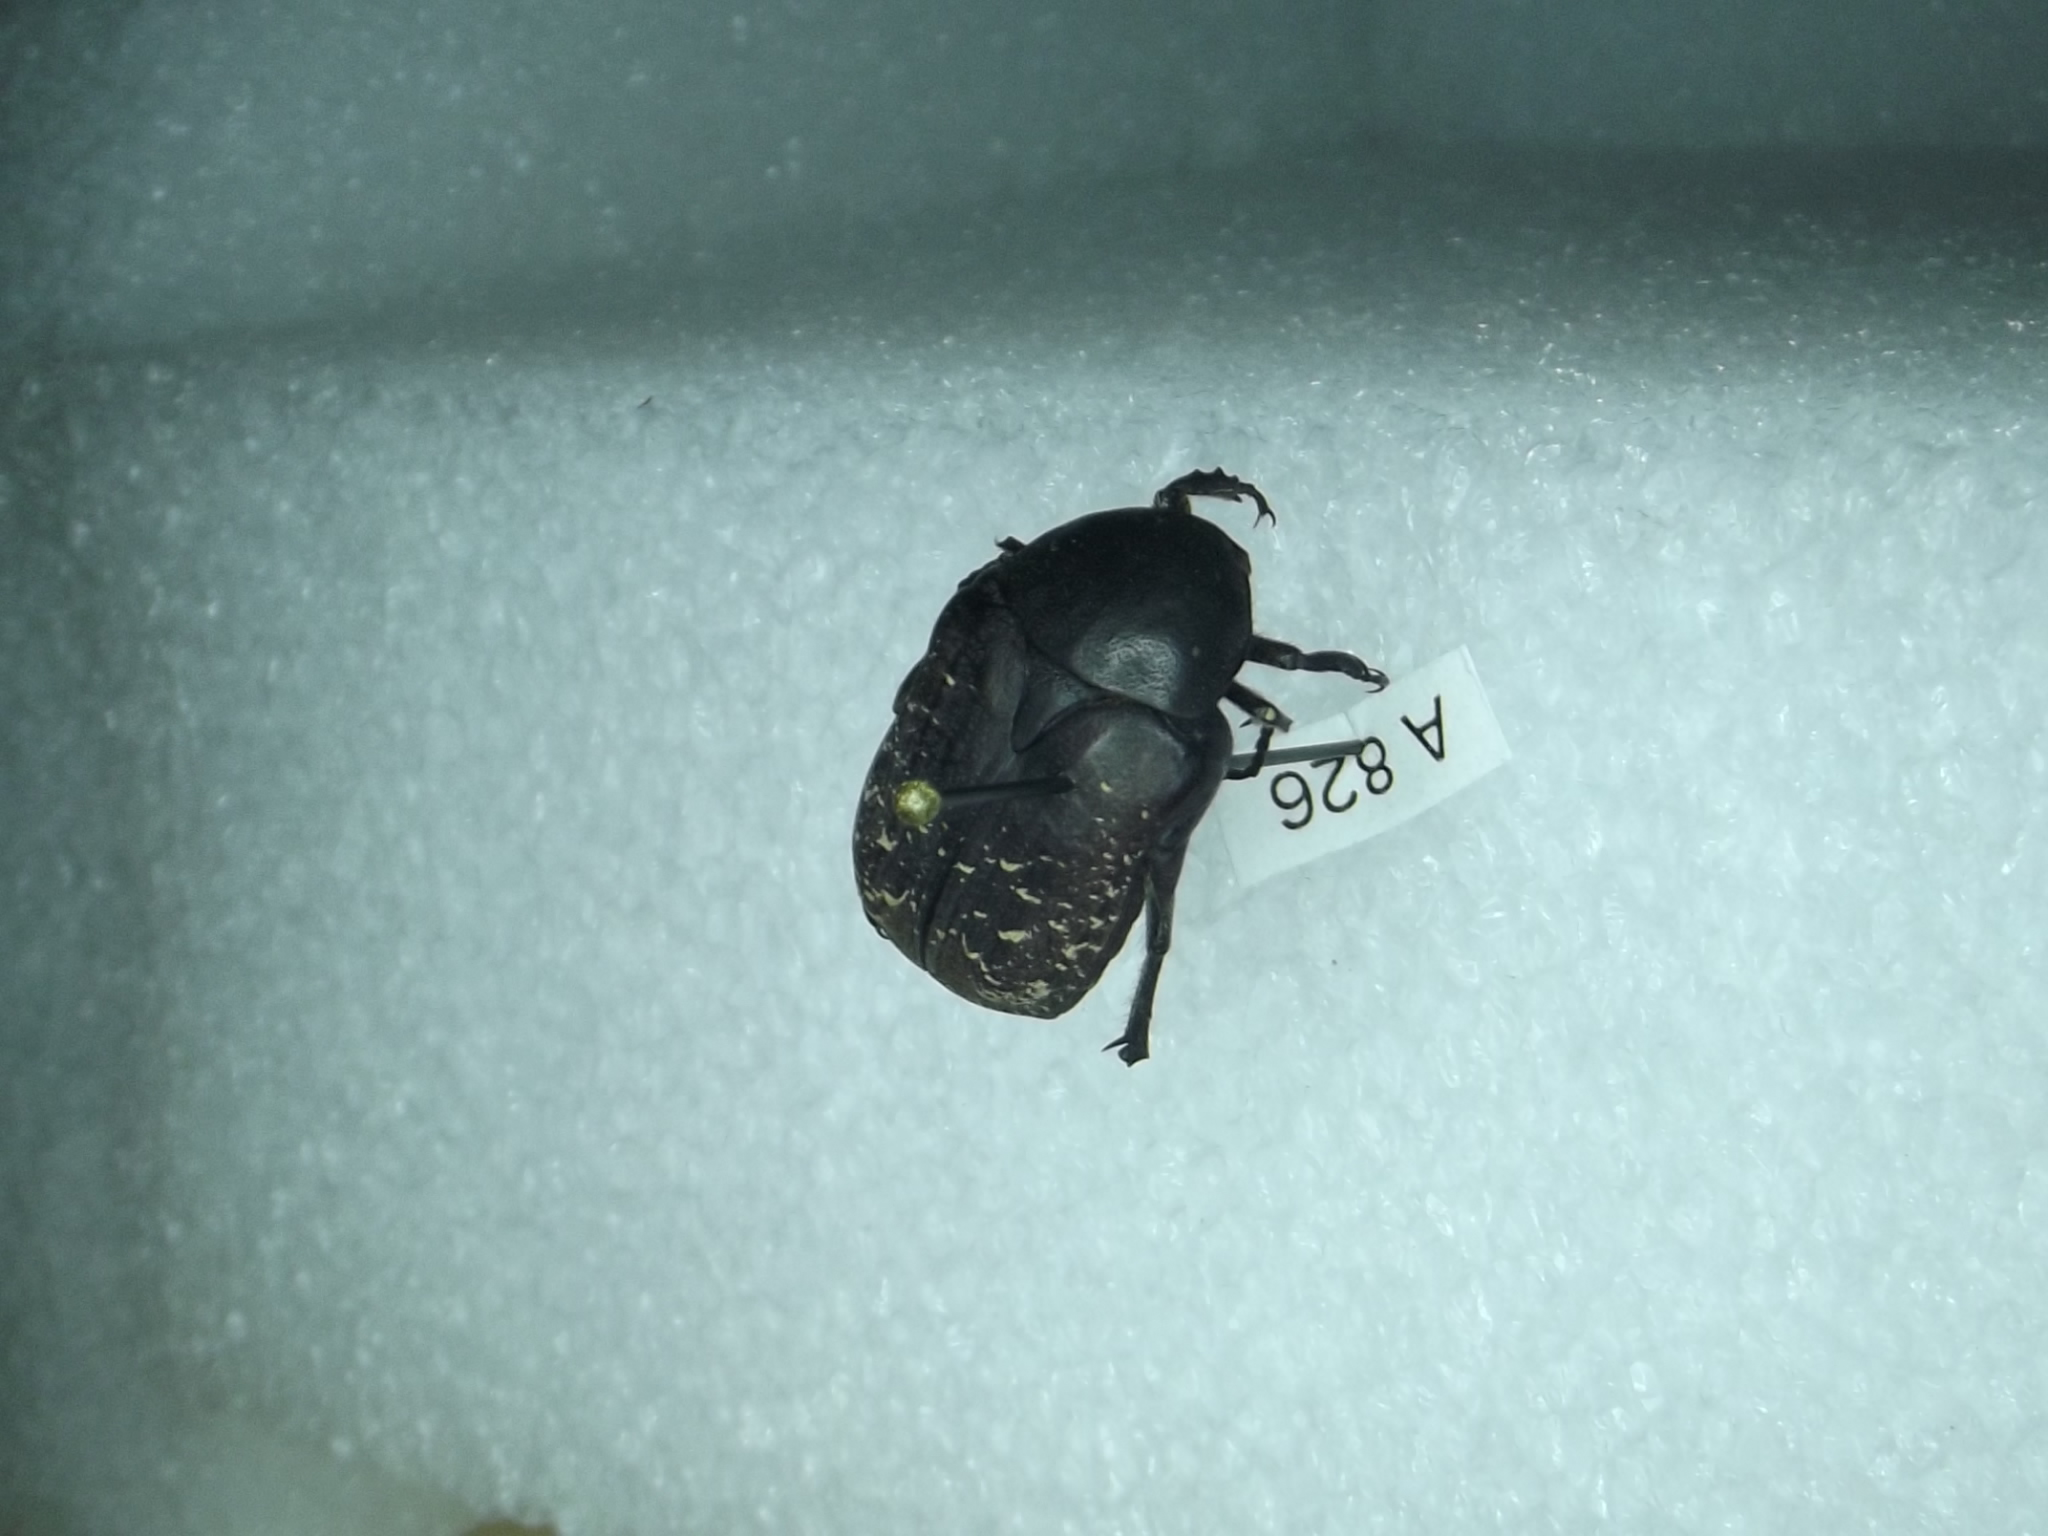Protaetia_oblonga: (835, 445, 1411, 1081)
